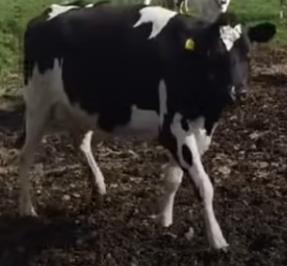cow: (21, 4, 276, 253)
